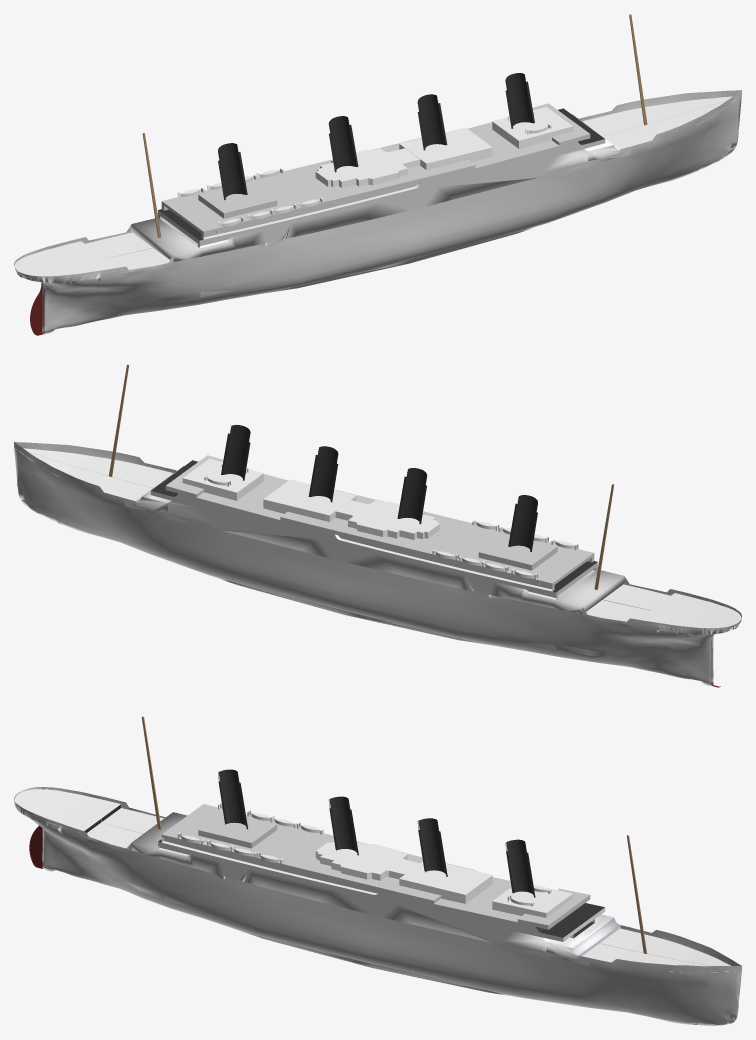
The picture shows the model from 3 angles, top to bottom: view 1: azimuth 30°, elevation 25°; view 2: azimuth 150°, elevation 25°; view 3: azimuth 330°, elevation 25°; orthographic projection.
Visible parts, largest first — view 1: Group_007; view 2: Group_007; view 3: Group_007.
Part boxes in pixels (<box>): Group_007: <box>14,14,741,335</box>; Group_007: <box>14,364,741,687</box>; Group_007: <box>14,716,741,1025</box>.
Bounding box in the file's own units: 48.7 × 11.44 × 5.2.
